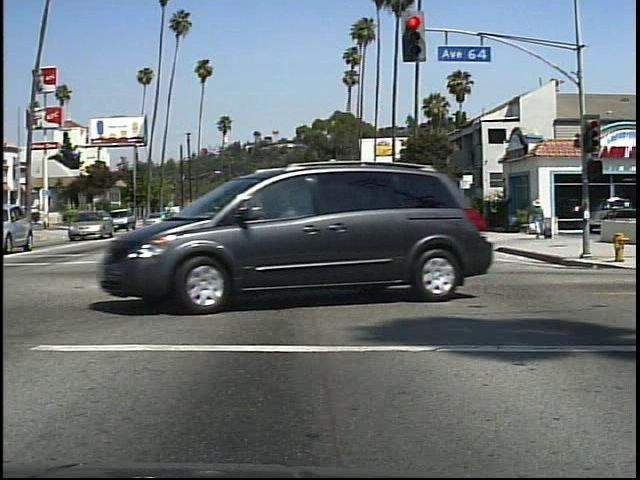person: (531, 196, 547, 242)
